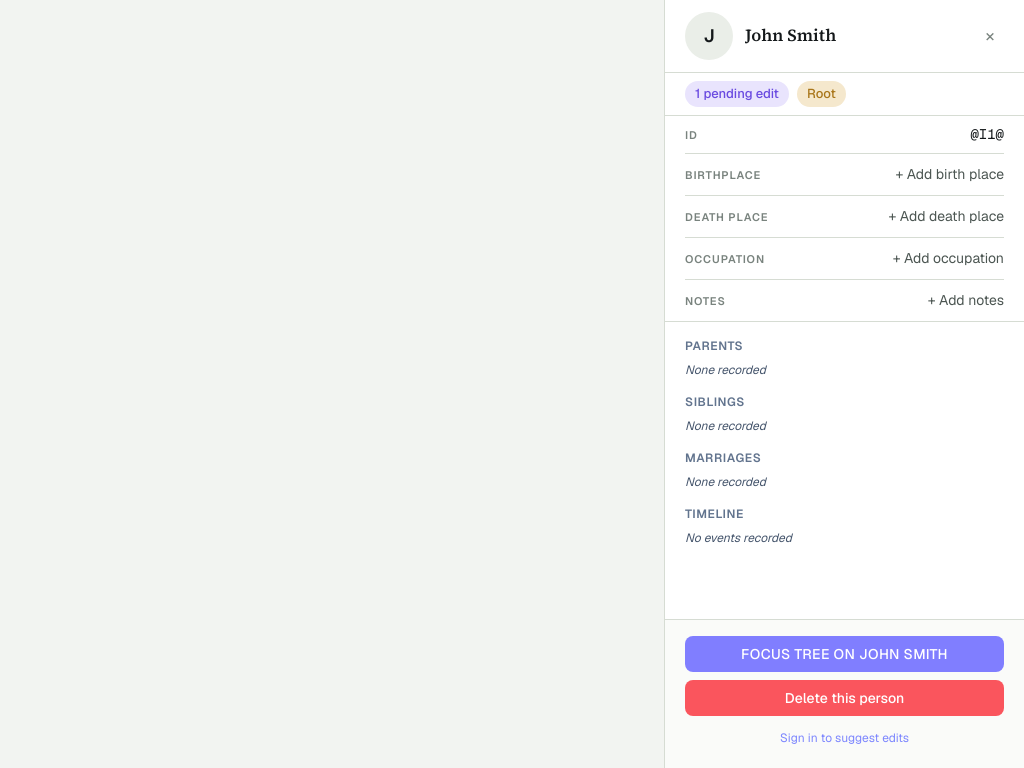
Test case: PersonDrawer › Delete confirmation — in-app modal replaces window.confirm › cancelling the modal closes it without reverting or closing the drawer
The image size is (1024, 768).
Click the button with test id "person-drawer-delete". click: point(844, 698)
box: [685,680,1004,716]
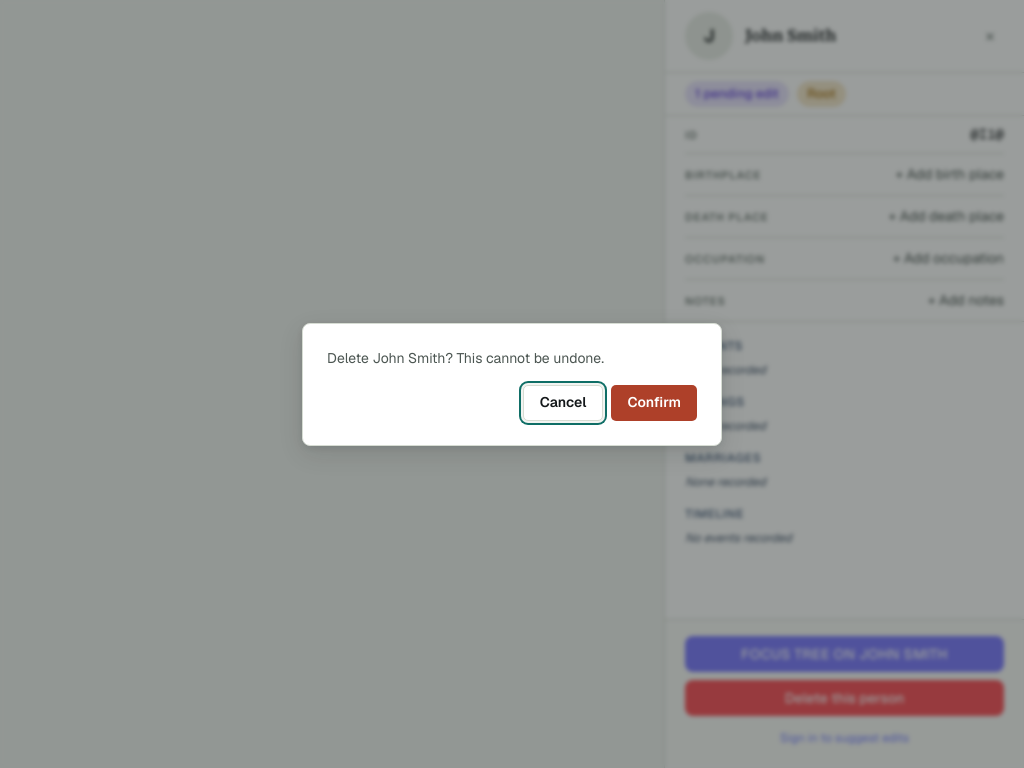
Now the dialog with test id "confirm-dialog" is shown, box [302,322,722,446]
Click the button with test id "confirm-dialog-cancel". click: point(563, 402)
box: [523,384,603,420]
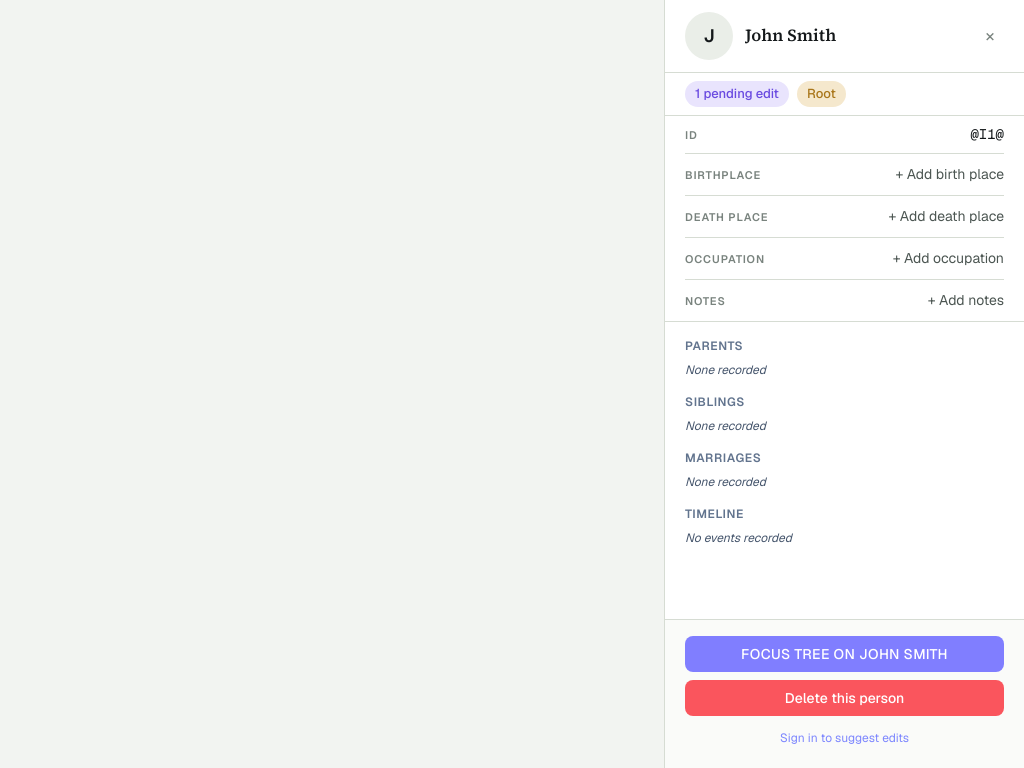
Now the dialog with test id "confirm-dialog" is gone
